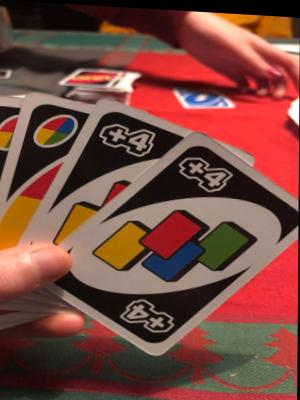colour: (28, 105, 82, 153), (0, 102, 19, 155)
